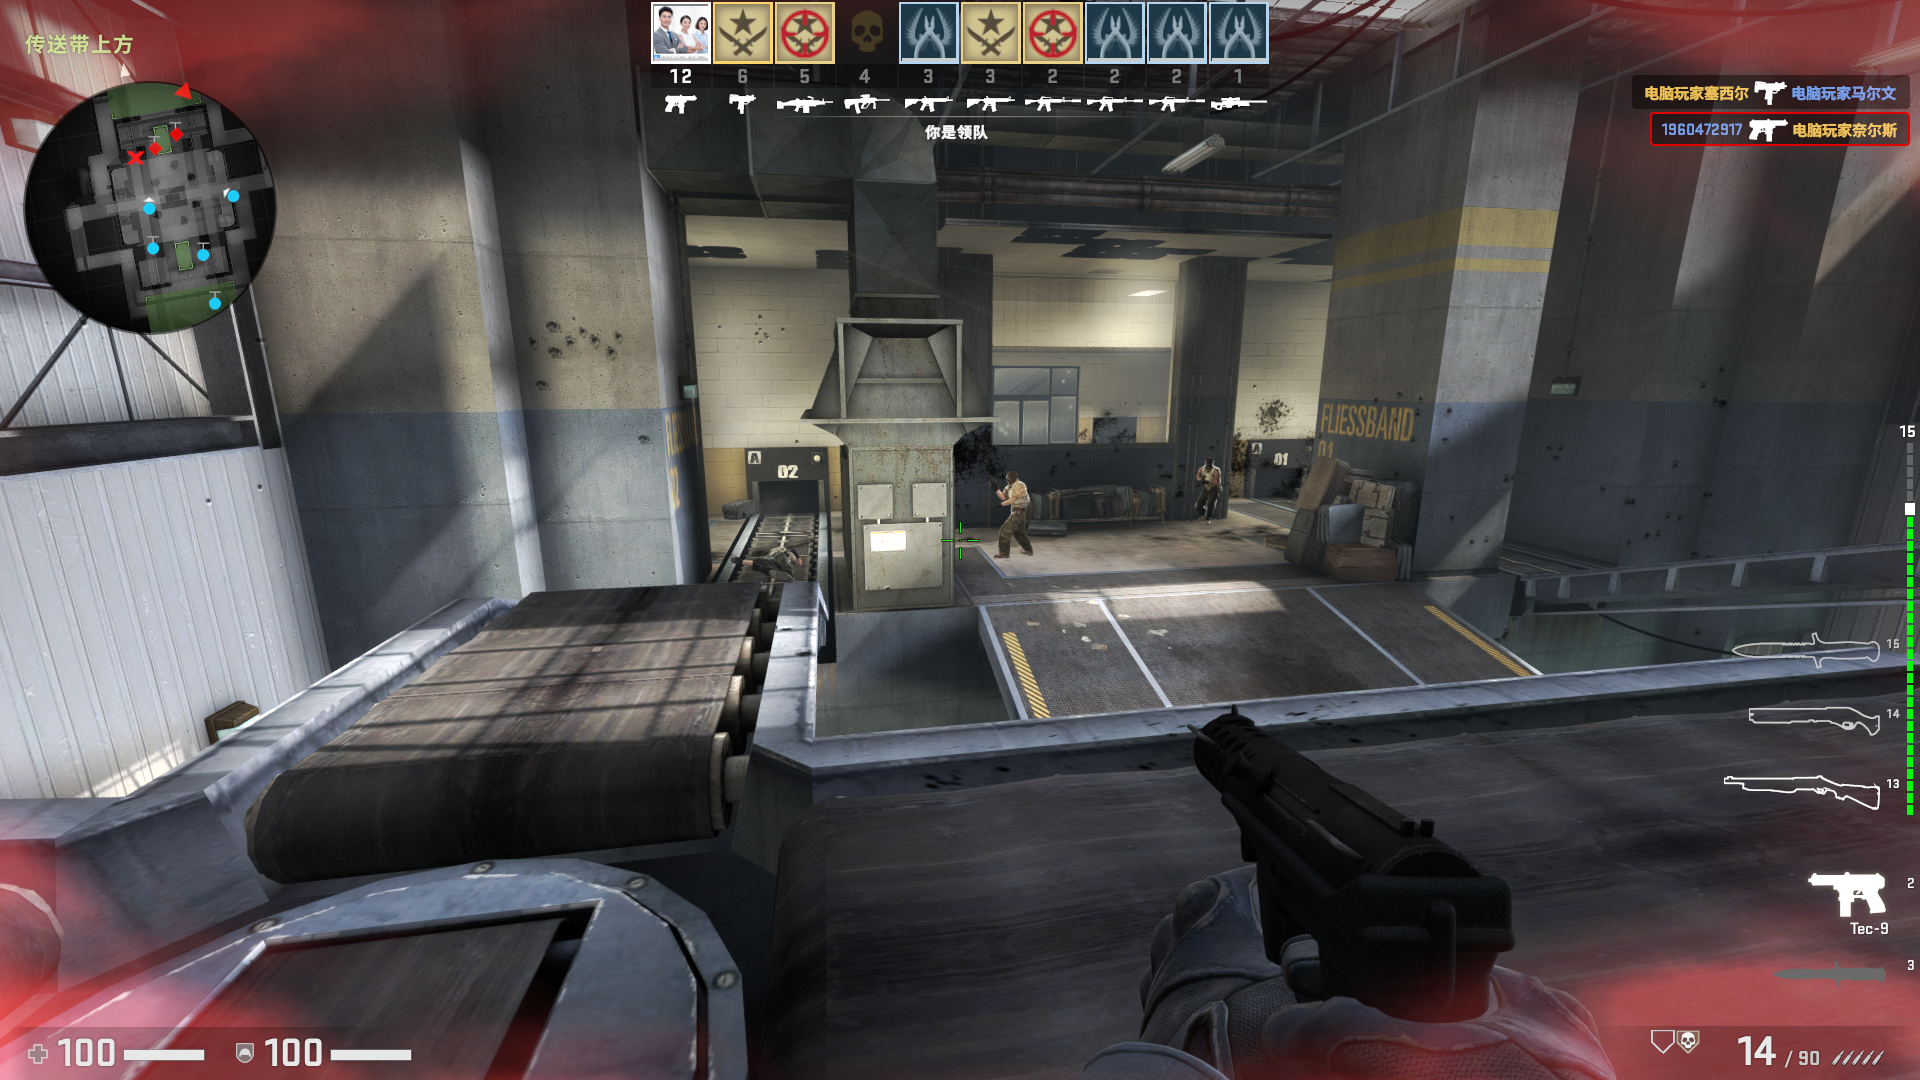person: (986, 472, 1036, 559), (1192, 455, 1223, 524)
